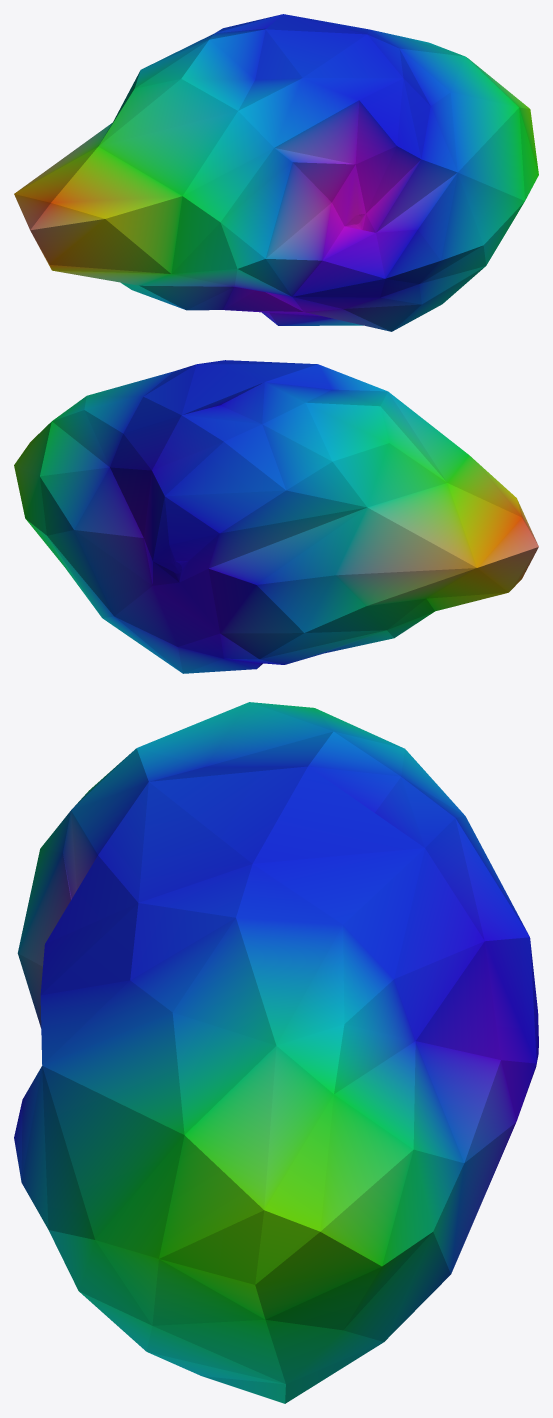
Rendered from Amalthea-Lo.fbx.
The picture shows the model from 3 angles, top to bottom: view 1: azimuth 30°, elevation 25°; view 2: azimuth 150°, elevation 25°; view 3: azimuth 270°, elevation 25°; orthographic projection. The views are drawn at different scales.
Parts seen in each view (by area): view 1: Amalthea-Lo; view 2: Amalthea-Lo; view 3: Amalthea-Lo.
Part boxes in pixels (x1,y1,x2,y2): Amalthea-Lo: [14, 14, 538, 331]; Amalthea-Lo: [14, 360, 538, 673]; Amalthea-Lo: [14, 702, 538, 1403].
Size of the model in its own units: 26842 by 15765 by 13737.
